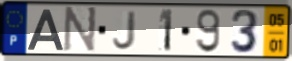1: (158, 7, 174, 55)
3: (229, 8, 261, 56)
9: (195, 7, 223, 55)
A: (25, 8, 65, 51)
J: (111, 9, 139, 51)
N: (61, 5, 99, 55)
